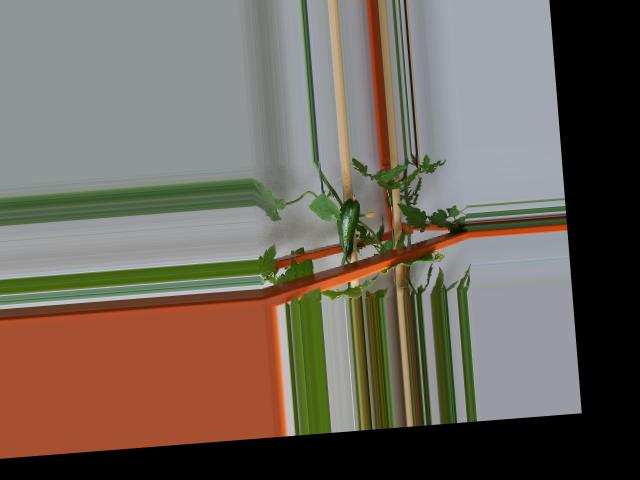cucumber: (335, 193, 363, 255)
